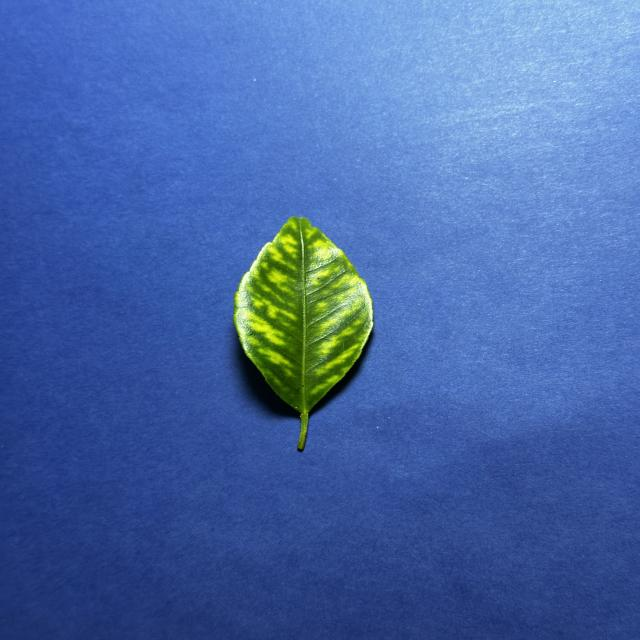greening: (234, 217, 373, 450)
